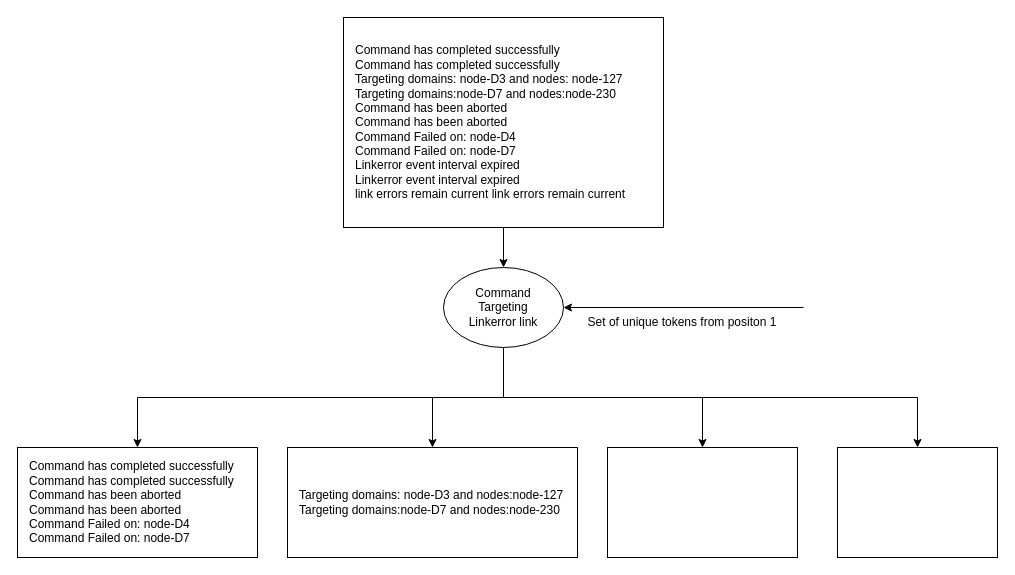
Some shapes in this 1015 by 575 pixel diagram are drawn without their labels. The shapes that lost their labels are listed below. From the top down, each one's centre as x and y in pixels, then its label:
At [702,502]: "Linkerror event interval expired Linkerror event interval expired".
At [917,502]: "link errors remain current link errors remain current".
